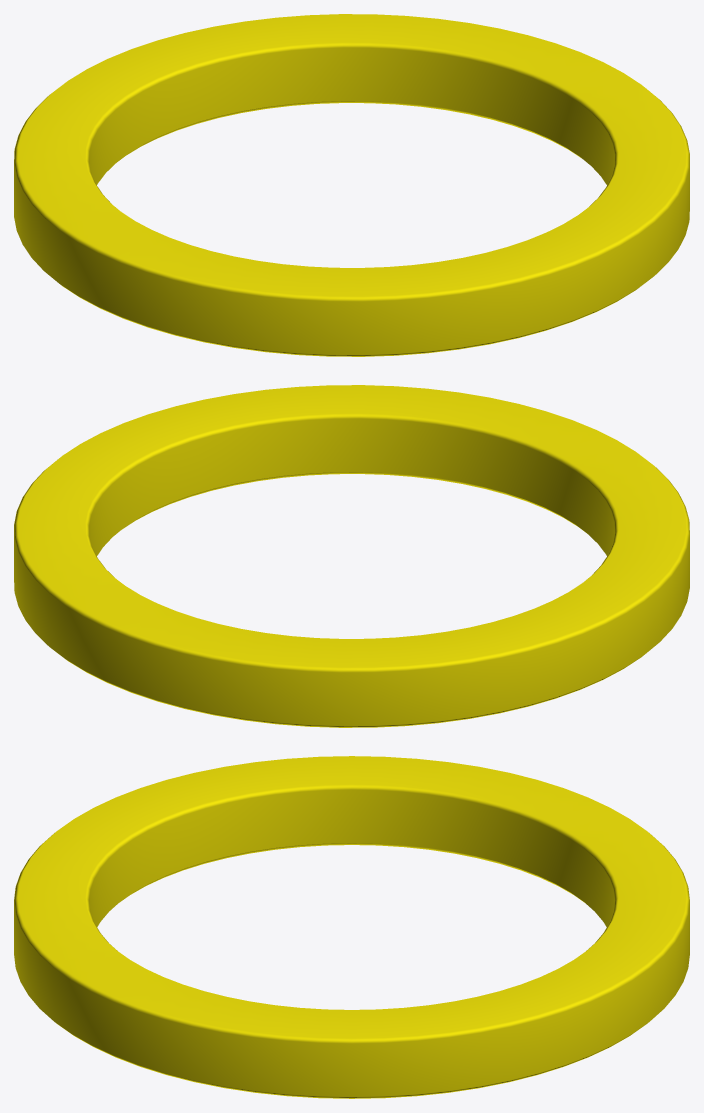
3 renders of one model, top to bottom at view 1: azimuth 30°, elevation 25°; view 2: azimuth 150°, elevation 25°; view 3: azimuth 270°, elevation 25°, orthographic.
Parts seen in each view (by area): view 1: seal_body; view 2: seal_body; view 3: seal_body.
Part boxes in pixels (left/top/right/bottom): seal_body: left=14, top=14, right=689, bottom=356; seal_body: left=14, top=385, right=689, bottom=727; seal_body: left=14, top=756, right=689, bottom=1098.
Bounding box in the file's own units: 0.0643 × 0.00635 × 0.0643.
